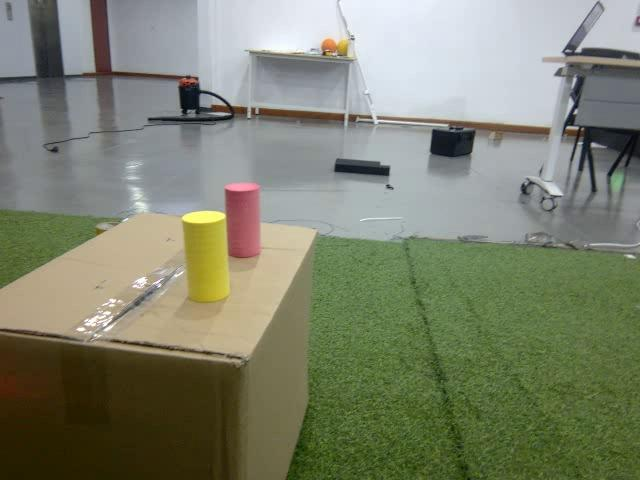red_cylinder: (224, 181, 263, 259)
yellow_cylinder: (181, 209, 230, 305)
